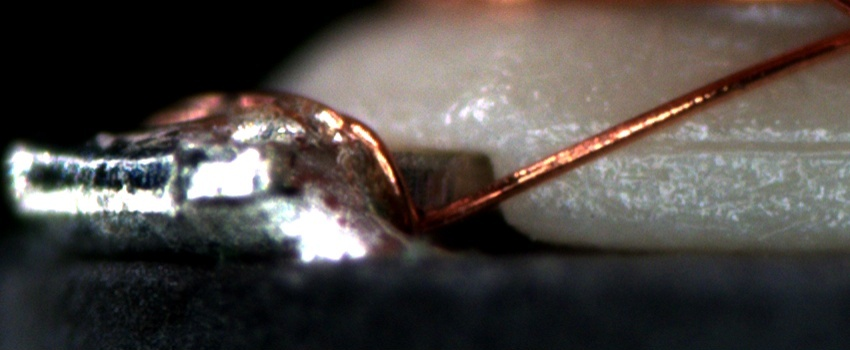DL: (585, 113, 850, 175)
TE: (255, 85, 425, 215)
